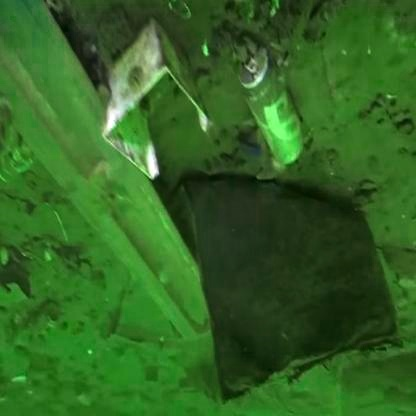can: (237, 48, 332, 174)
plastic: (103, 27, 207, 178)
